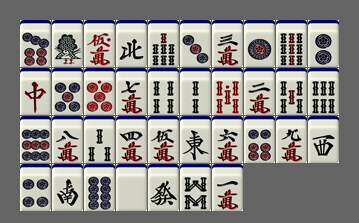0m: (84, 20, 115, 67)
0p: (84, 68, 115, 115)
0s: (212, 68, 243, 115)
1m: (212, 164, 243, 211)
1p: (244, 20, 275, 67)
1s: (52, 20, 83, 67)
1z: (180, 116, 211, 163)
2m: (244, 68, 275, 115)
2p: (308, 20, 339, 67)
2s: (180, 68, 211, 115)
2z: (52, 164, 83, 211)
3m: (212, 20, 243, 67)
3p: (180, 20, 211, 67)
3s: (84, 116, 115, 163)
3z: (308, 116, 339, 163)
4m: (116, 116, 147, 163)
4p: (20, 164, 51, 211)
4s: (148, 68, 179, 115)
4z: (116, 20, 147, 67)
5m: (148, 116, 179, 163)
5p: (52, 68, 83, 115)
5s: (276, 68, 307, 115)
5z: (116, 164, 147, 211)
6m: (212, 116, 243, 163)
6p: (244, 116, 275, 163)
6s: (308, 68, 339, 115)
6z: (148, 164, 179, 211)
7m: (116, 68, 147, 115)
7p: (20, 20, 51, 67)
7s: (148, 20, 179, 67)
7z: (20, 68, 51, 115)
8m: (52, 116, 83, 163)
8p: (84, 164, 115, 211)
8s: (180, 164, 211, 211)
9m: (276, 116, 307, 163)
9p: (20, 116, 51, 163)
9s: (276, 20, 307, 67)
